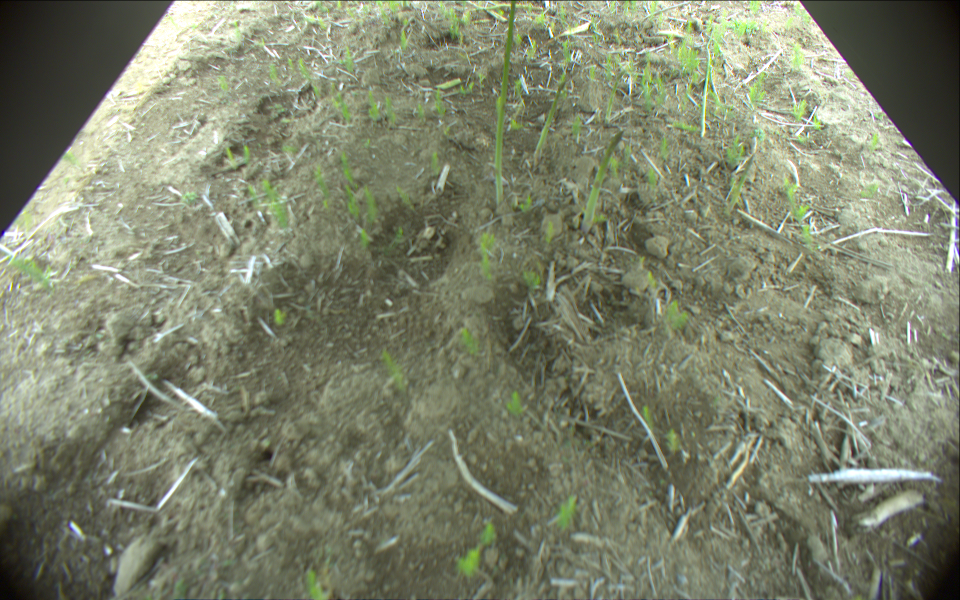aspa: (493, 1, 516, 212), (578, 130, 623, 234), (534, 74, 567, 171), (697, 30, 717, 139), (466, 1, 507, 24), (465, 2, 543, 13), (436, 76, 460, 90)
